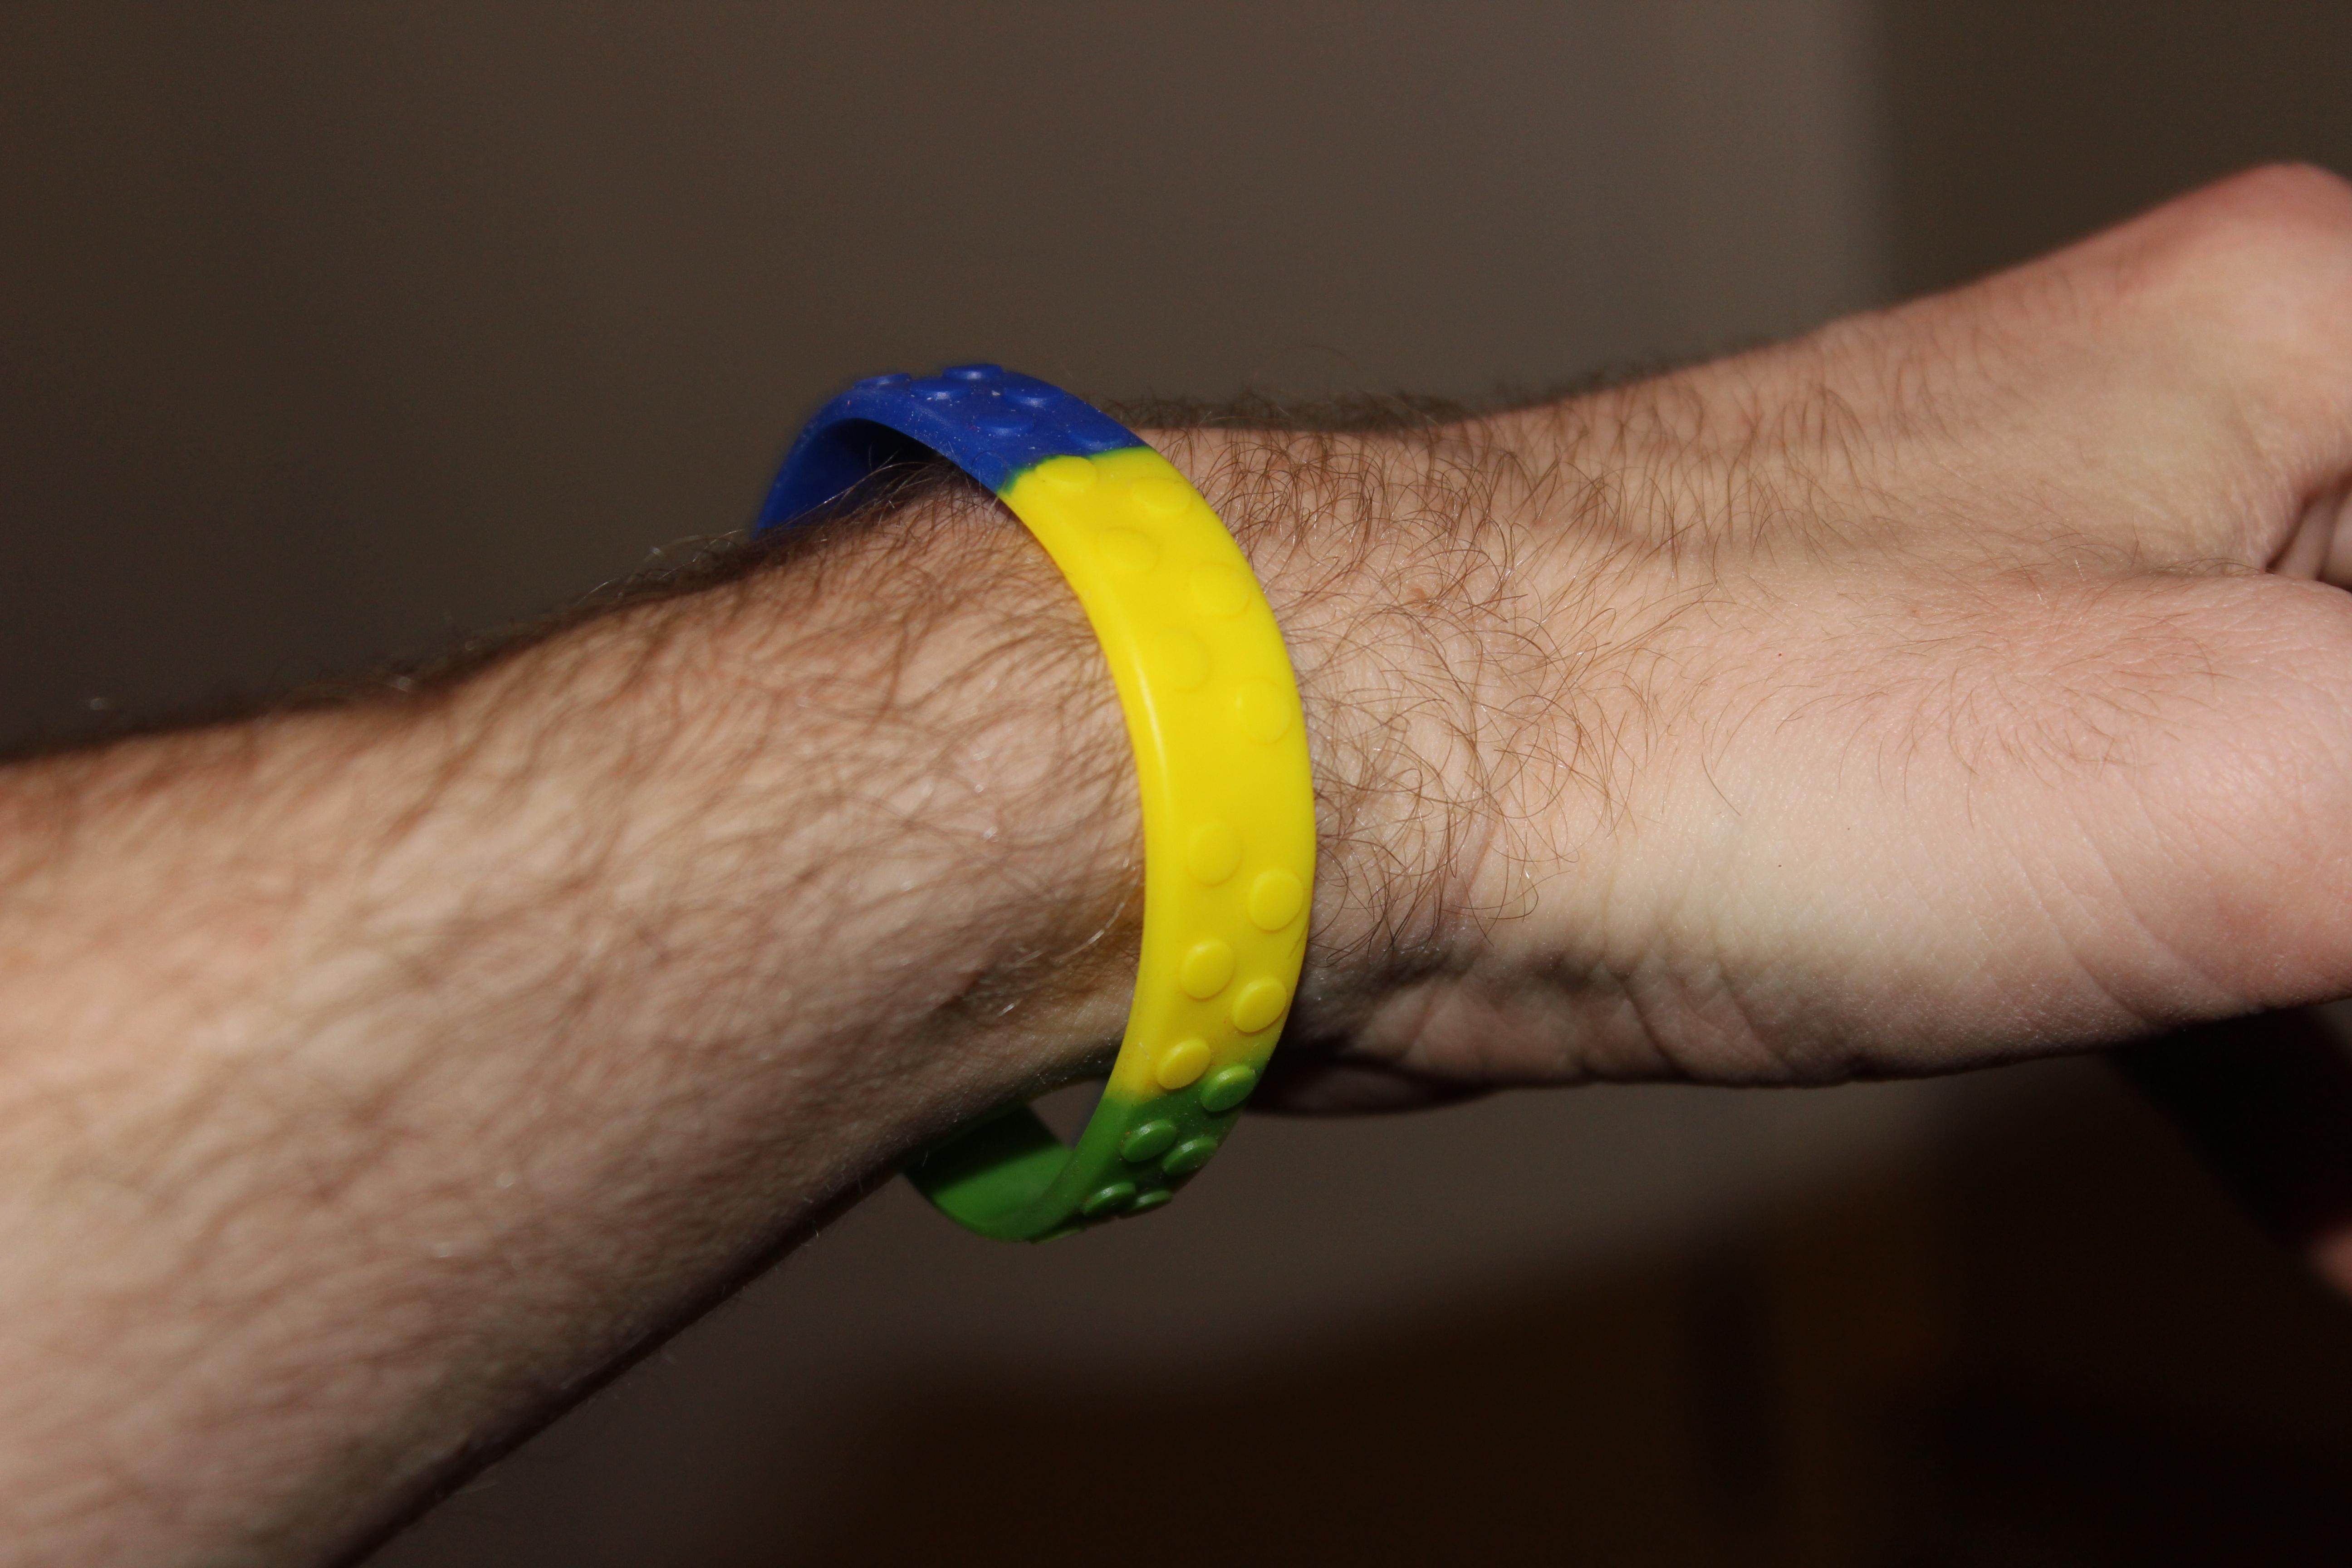legoBracelet: (700, 334, 1340, 1272)
